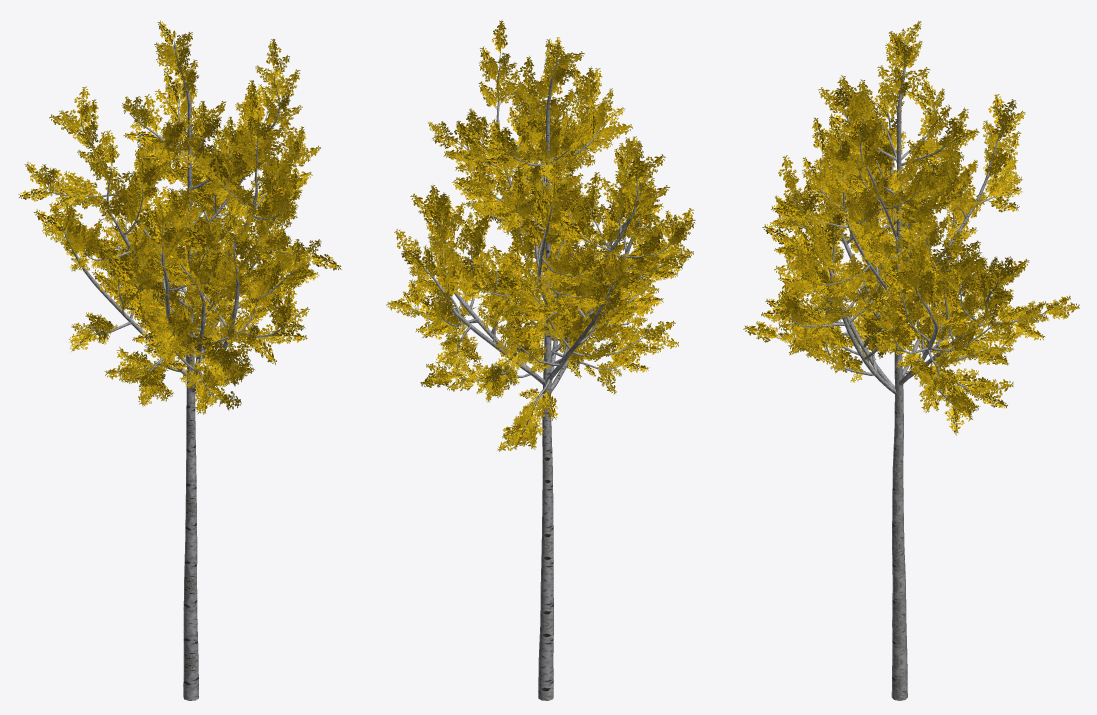
File: Alamo.glb
3 views of the same model, side by side, from view 1: azimuth 30°, elevation 25°; view 2: azimuth 150°, elevation 25°; view 3: azimuth 270°, elevation 25° (orthographic).
Bounding box in the file's own units: 45.92 × 102 × 47.57.
2 materials, 2 textured.
